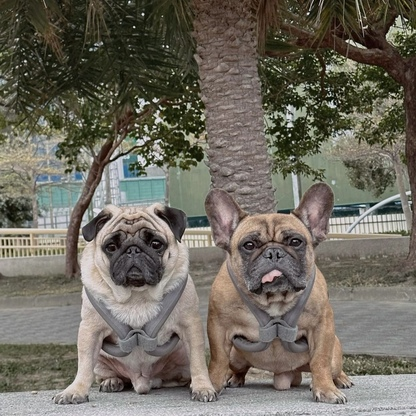Pug: (48, 198, 219, 406)
bulldog: (202, 181, 357, 409)
